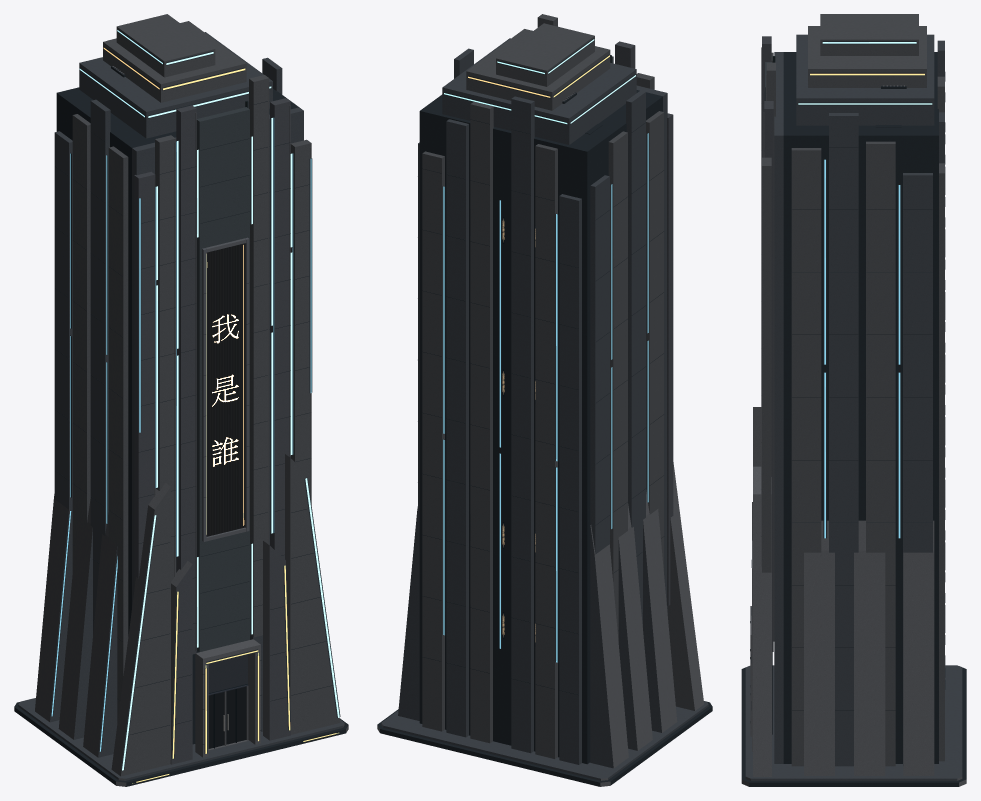
The model's file is about.glb.
The picture shows the model from 3 angles, left to right: view 1: azimuth 30°, elevation 25°; view 2: azimuth 150°, elevation 25°; view 3: azimuth 270°, elevation 25°; orthographic projection. The views are drawn at different scales.
Parts seen in each view (by area): view 1: monolith_core_and_crown, angled_structural_buttresses, vertical_led, foundation_and_entry, about_lighting_front_recesses, about_lighting_structural_edges, about_lighting_sides_and_rear, about_lighting_stepped_crown, about_lighting_entry_and_base; view 2: monolith_core_and_crown, angled_structural_buttresses, about_lighting_sides_and_rear, foundation_and_entry, about_lighting_stepped_crown; view 3: monolith_core_and_crown, angled_structural_buttresses, foundation_and_entry, about_lighting_sides_and_rear, about_lighting_stepped_crown.
Boxes of the visible parts, bbox=[...] form: monolith_core_and_crown: bbox=[54, 14, 311, 744]; angled_structural_buttresses: bbox=[35, 454, 340, 776]; vertical_led: bbox=[202, 237, 249, 541]; foundation_and_entry: bbox=[14, 639, 348, 786]; about_lighting_front_recesses: bbox=[155, 117, 293, 647]; about_lighting_structural_edges: bbox=[121, 158, 340, 770]; about_lighting_sides_and_rear: bbox=[50, 153, 117, 751]; about_lighting_stepped_crown: bbox=[79, 29, 271, 118]; about_lighting_entry_and_base: bbox=[136, 649, 336, 782]; monolith_core_and_crown: bbox=[418, 14, 673, 764]; angled_structural_buttresses: bbox=[398, 462, 704, 768]; about_lighting_sides_and_rear: bbox=[442, 133, 648, 662]; foundation_and_entry: bbox=[377, 701, 712, 786]; about_lighting_stepped_crown: bbox=[444, 38, 635, 124]; monolith_core_and_crown: bbox=[761, 14, 945, 766]; angled_structural_buttresses: bbox=[751, 407, 934, 776]; foundation_and_entry: bbox=[741, 606, 966, 786]; about_lighting_sides_and_rear: bbox=[823, 159, 901, 538]; about_lighting_stepped_crown: bbox=[798, 41, 932, 105].
Size of the model in its own units: 16 by 44.6 by 13.05.
6 materials, 5 textured.
